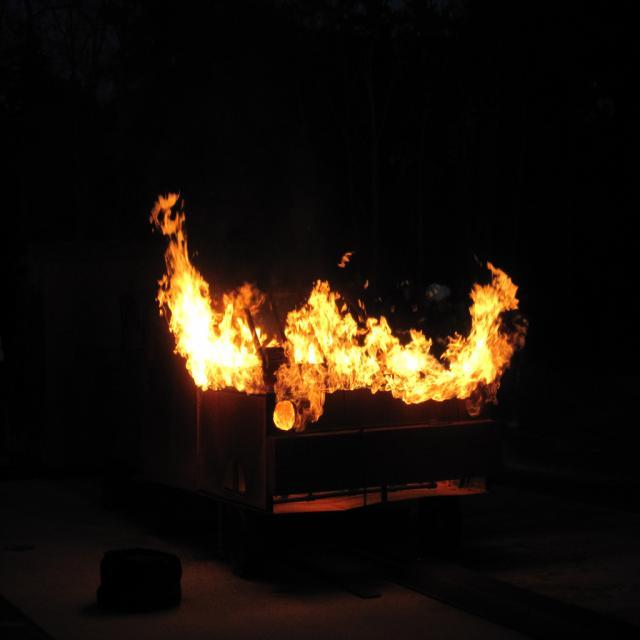Fire: (176, 282, 250, 386), (378, 345, 512, 398), (281, 328, 359, 408)
